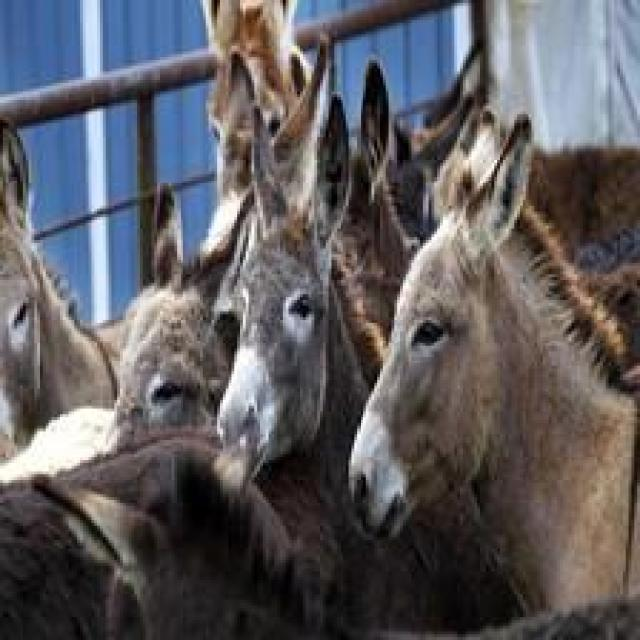Donkey: (343, 103, 637, 620), (0, 417, 334, 637), (212, 28, 372, 486), (0, 111, 131, 451), (103, 180, 254, 451), (194, 0, 309, 257), (329, 57, 414, 386), (352, 54, 477, 249)
